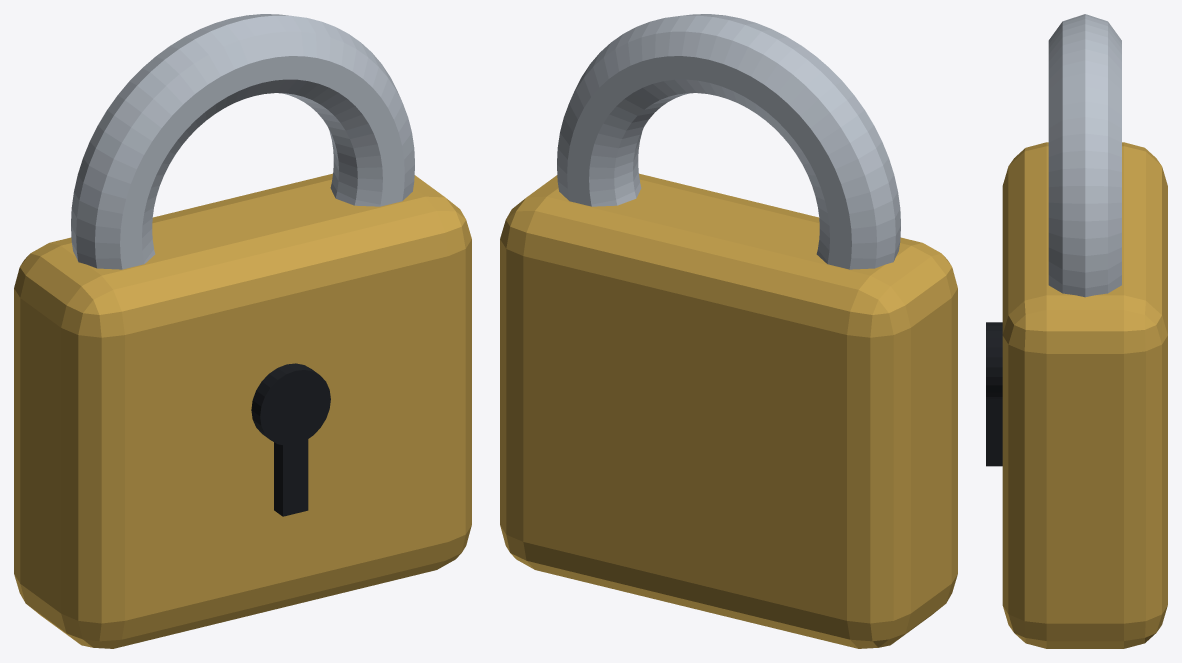
Rendered from candado.glb.
3 views of the same model, side by side, from view 1: azimuth 30°, elevation 25°; view 2: azimuth 150°, elevation 25°; view 3: azimuth 270°, elevation 25° (orthographic). The views are drawn at different scales.
Parts seen in each view (by area): view 1: Cube, Torus.013, Cylinder, Cube.001; view 2: Cube, Torus.013; view 3: Cube, Torus.013, Cylinder, Cube.001.
Part boxes in pixels (box(x1,y1,x2,y2)): Cube: box(14, 173, 471, 648); Torus.013: box(71, 14, 414, 269); Cylinder: box(251, 363, 330, 445); Cube.001: box(274, 426, 308, 516); Cube: box(500, 173, 957, 648); Torus.013: box(557, 14, 900, 269); Cube: box(1002, 142, 1167, 648); Torus.013: box(1048, 14, 1121, 297); Cylinder: box(986, 322, 1002, 398); Cube.001: box(986, 399, 1002, 466).
Bounding box in the file's own units: 0.8 × 1.08 × 0.33.
